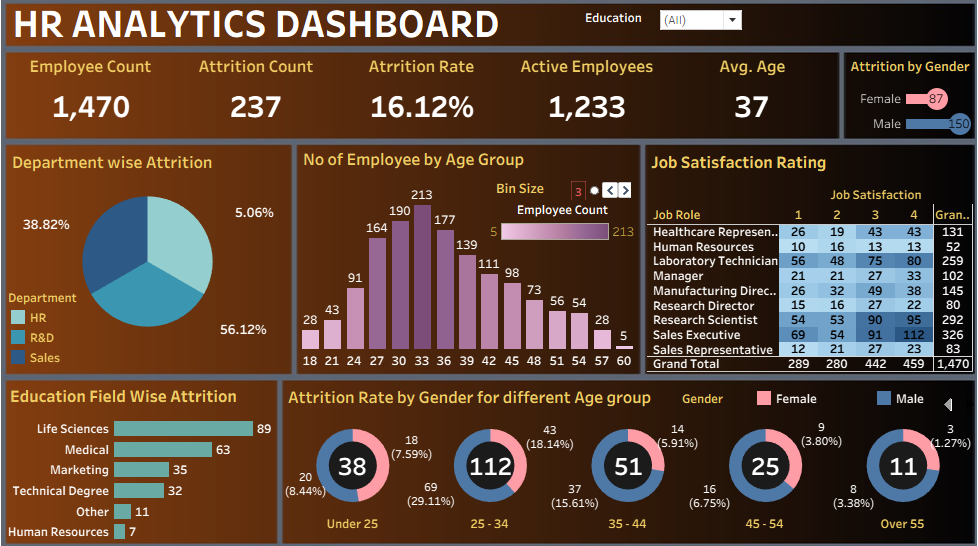

Layout of this report page (visuals, bound fields, positions):
{"tool":"powerbi","page":{"name":"Page 1","canvas":[1650,880],"ordinal":0},"visuals":[{"type":"card","title":"Overall Employees","fields":{"Values":["Sum(HR data.Employee Count)"]},"box":[13.3,135,313.3,110],"z":0},{"type":"card","title":"Attrition","fields":{"Values":["Sum(HR data.Attrition Count)"]},"box":[336.7,135,315,111.7],"z":1000},{"type":"card","title":"Attrition Rate","fields":{"Values":["HR data.Attrition Rate"]},"box":[663.3,135,323.3,111.7],"z":2000},{"type":"card","title":"Active Employees","fields":{"Values":["HR data.Active Employees"]},"box":[999,135,323.3,111.7],"z":3000},{"type":"card","title":"Average Age","fields":{"Values":["Avg(HR data.Age)"]},"box":[1331.7,135,303.3,111.7],"z":4000},{"type":"pieChart","title":"Department Wise Attrition","fields":{"Y":["Sum(HR data.Attrition Count)"],"Category":["HR data.Department"]},"box":[11.7,257.1,475.7,297],"z":5000},{"type":"columnChart","title":"Number of Employee by Age Group","fields":{"Category":["HR data.CF_age band"],"Y":["Sum(HR data.Employee Count)"],"Series":["HR data.Gender"]},"box":[498.3,256.7,588.3,297],"z":6000},{"type":"pivotTable","title":"Job Satisfaction Rating","fields":{"Rows":["HR data.Job Role"],"Columns":["HR data.Job Satisfaction"],"Values":["Sum(HR data.Employee Count)"]},"box":[1096.7,266.7,540,296.7],"z":7000},{"type":"barChart","title":" Education Field Wise Attrition ","fields":{"Category":["HR data.Education Field"],"Y":["Sum(HR data.Attrition Count)"]},"box":[13.3,563.3,365,301.7],"z":8000},{"type":"donutChart","title":"25 -34","fields":{"Category":["HR data.Gender"],"Y":["Sum(HR data.Attrition Count)"],"Series":["HR data.CF_age band"]},"box":[640.7,611.2,242.9,254.3],"z":9000},{"type":"textbox","title":"Attrition Rate by Gender for Different Age Groups","box":[386.7,563.3,1248.3,36.7],"z":10000},{"type":"donutChart","title":"35 - 44","fields":{"Category":["HR data.Gender"],"Y":["Sum(HR data.Attrition Count)"],"Series":["HR data.CF_age band"]},"box":[891.7,611.2,242.9,254.3],"z":11000},{"type":"donutChart","title":"45 -54","fields":{"Category":["HR data.Gender"],"Y":["Sum(HR data.Attrition Count)"],"Series":["HR data.CF_age band"]},"box":[1141.7,611.2,242.9,254.3],"z":12000},{"type":"donutChart","title":"Above 55","fields":{"Category":["HR data.Gender"],"Y":["Sum(HR data.Attrition Count)"],"Series":["HR data.CF_age band"]},"box":[1393.1,611.2,242.9,254.3],"z":13000},{"type":"donutChart","title":"Under 25","fields":{"Category":["HR data.Gender"],"Y":["Sum(HR data.Attrition Count)"],"Series":["HR data.CF_age band"]},"box":[388.8,611.2,242.9,254.3],"z":14000},{"type":"card","fields":{"Values":["Sum(HR data.Attrition Count)"]},"box":[474.5,725.5,70,82.9],"z":15000},{"type":"card","fields":{"Values":["Sum(HR data.Attrition Count)"]},"box":[1478.8,725.5,70,82.9],"z":16000},{"type":"card","fields":{"Values":["Sum(HR data.Attrition Count)"]},"box":[1227.4,725.5,70,82.9],"z":17000},{"type":"card","fields":{"Values":["Sum(HR data.Attrition Count)"]},"box":[977.4,725.5,70,82.9],"z":18000},{"type":"card","fields":{"Values":["Sum(HR data.Attrition Count)"]},"box":[714.5,719.8,94.3,92.9],"z":19000},{"type":"advancedSlicerVisual","fields":{"Values":["HR data.Education"]},"box":[700,13.3,935,108.3],"z":20000},{"type":"textbox","title":"HR ANALYTICS DASHBOARD","box":[11.7,33.3,675,68.3],"z":21000}]}

Visuals, with their boxes on the page's 1650x880 design canvas (x1, y1, x2, y2). These are canvas units, not pixel positions in the 978x546 screenshot, which may show the page scaled, cropped or inside an application window:
"Overall Employees" card: 13/135/327/245
"Attrition" card: 337/135/652/247
"Attrition Rate" card: 663/135/987/247
"Active Employees" card: 999/135/1322/247
"Average Age" card: 1332/135/1635/247
"Department Wise Attrition" pieChart: 12/257/487/554
"Number of Employee by Age Group" columnChart: 498/257/1087/554
"Job Satisfaction Rating" pivotTable: 1097/267/1637/563
" Education Field Wise Attrition " barChart: 13/563/378/865
"25 -34" donutChart: 641/611/884/866
"Attrition Rate by Gender for Different Age Groups" textbox: 387/563/1635/600
"35 - 44" donutChart: 892/611/1135/866
"45 -54" donutChart: 1142/611/1385/866
"Above 55" donutChart: 1393/611/1636/866
"Under 25" donutChart: 389/611/632/866
card - Sum(HR data.Attrition Count): 474/726/544/808
card - Sum(HR data.Attrition Count): 1479/726/1549/808
card - Sum(HR data.Attrition Count): 1227/726/1297/808
card - Sum(HR data.Attrition Count): 977/726/1047/808
card - Sum(HR data.Attrition Count): 714/720/809/813
advancedSlicerVisual - HR data.Education: 700/13/1635/122
"HR ANALYTICS DASHBOARD" textbox: 12/33/687/102
